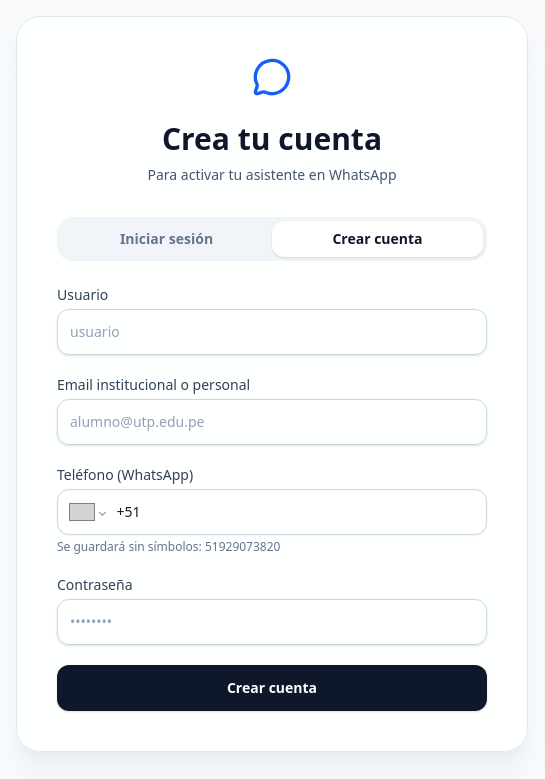
Test: ICPNA Assistant critical flows › disables registration submission while the request is pending
Type "codex_test" into the field labelled "Usuario".
click(272, 332); type("codex_test")  # box [57,309,487,355]
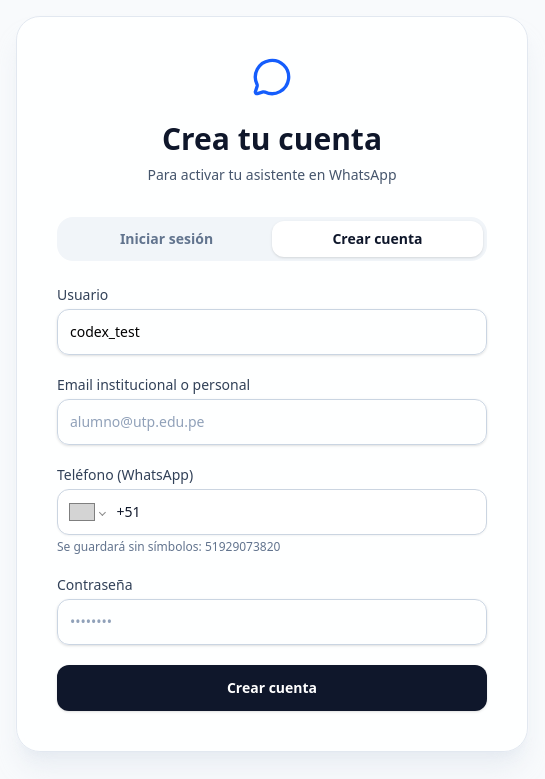
Type "codex_test@example.com" into the field labelled "Email institucional o personal".
click(272, 422); type("codex_test@example.com")  # box [57,399,487,445]
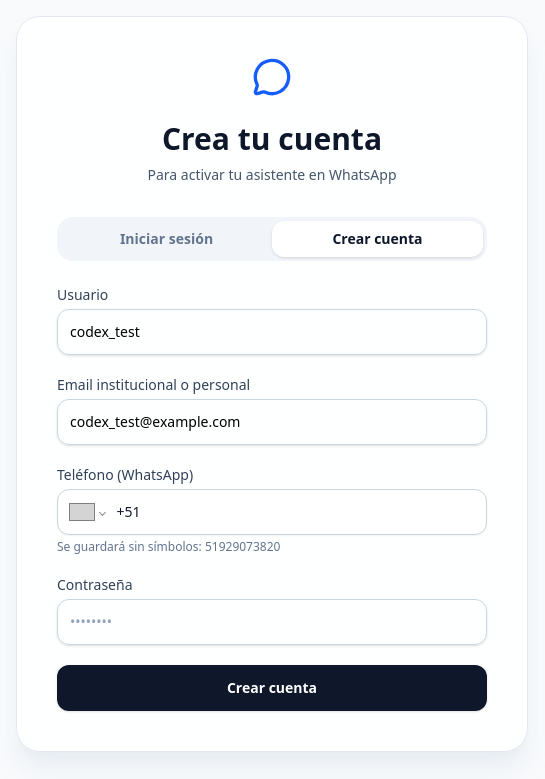
Replace the text in the field labelled "Teléfono (WhatsApp)" with "929073820" at x=295, y=512, box [116,502,474,522]
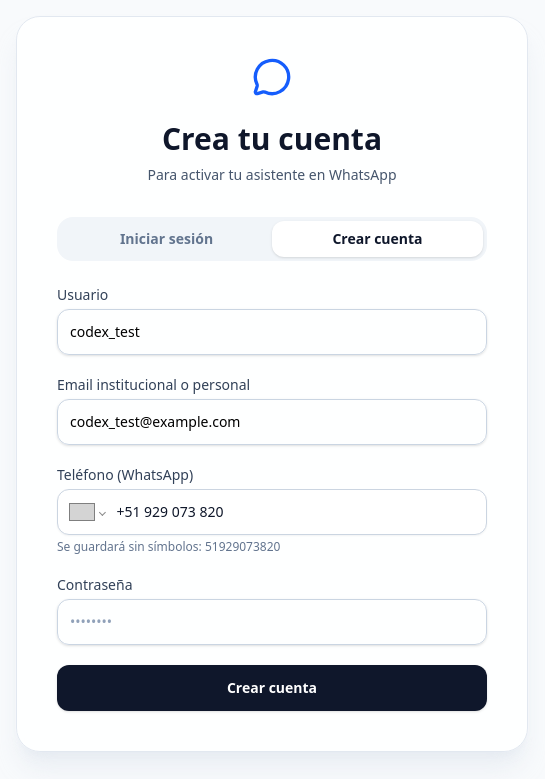
Type "CodexTest_2026!" into the password field labelled "Contraseña".
click(272, 622); type("CodexTest_2026!")  # box [57,599,487,645]
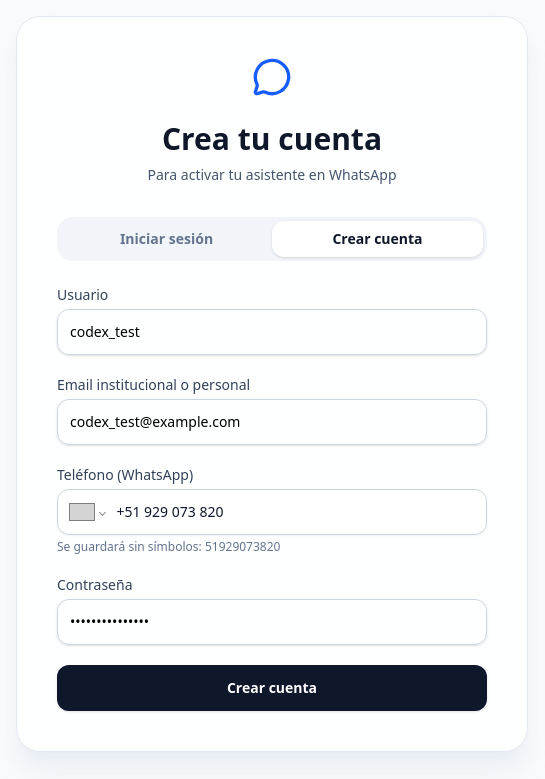
Click the submit button.
click(272, 688)  # box [57,665,487,711]
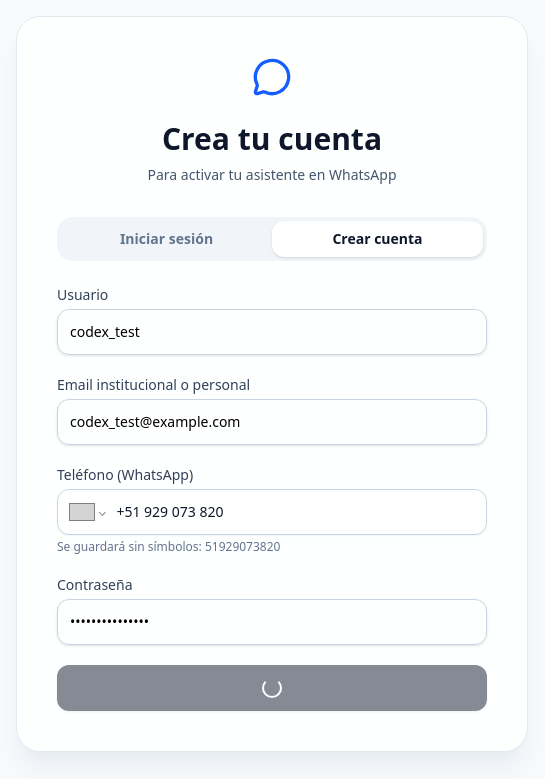
Now the submit button is disabled, box [57,665,487,711]
